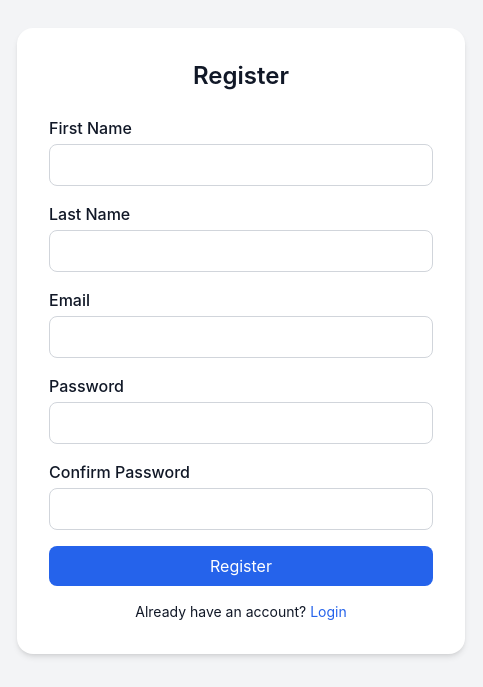
Test: Register Page › shows password mismatch error
This screenshot has width=483, height=687.
Type "Test" into the field with test id "firstName".
click(241, 165); type("Test")  # box [49,144,433,186]
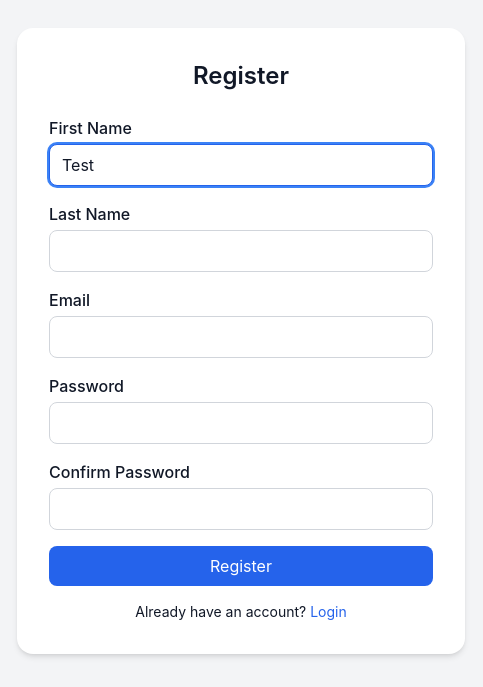
Type "User" into the field with test id "lastName".
click(241, 251); type("User")  # box [49,230,433,272]
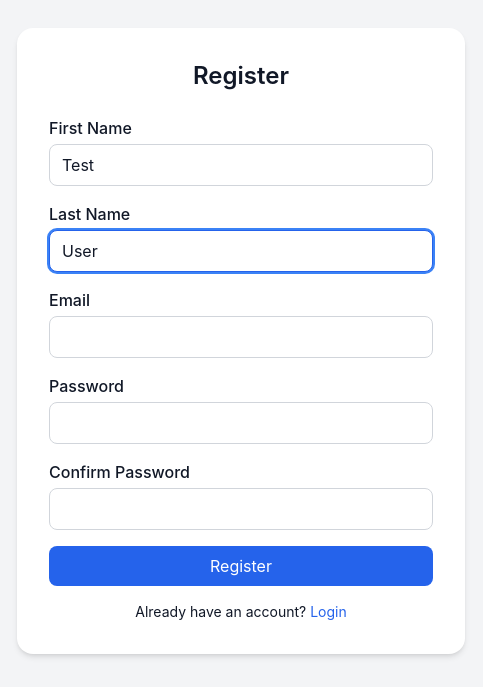
Type "test@example.com" into the field with test id "email".
click(241, 337); type("test@example.com")  # box [49,316,433,358]
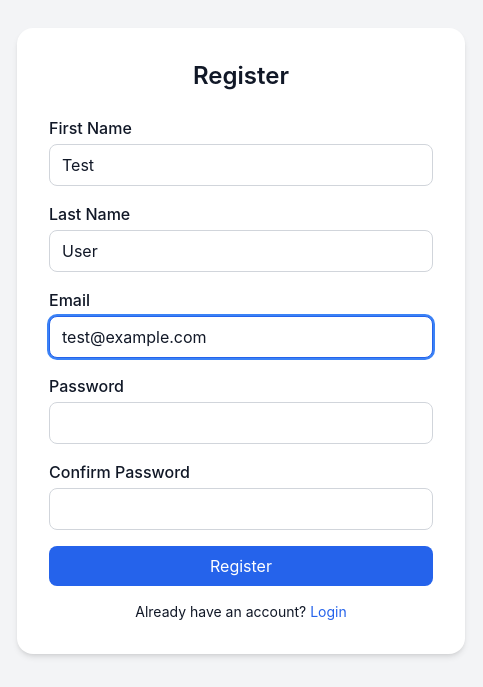
Type "password123" into the password field with test id "password".
click(241, 423); type("password123")  # box [49,402,433,444]
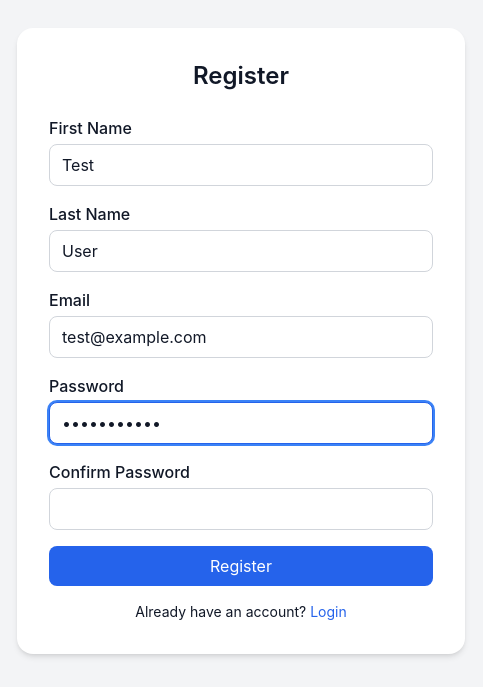
Type "mismatch" into the password field with test id "confirmPassword".
click(241, 509); type("mismatch")  # box [49,488,433,530]
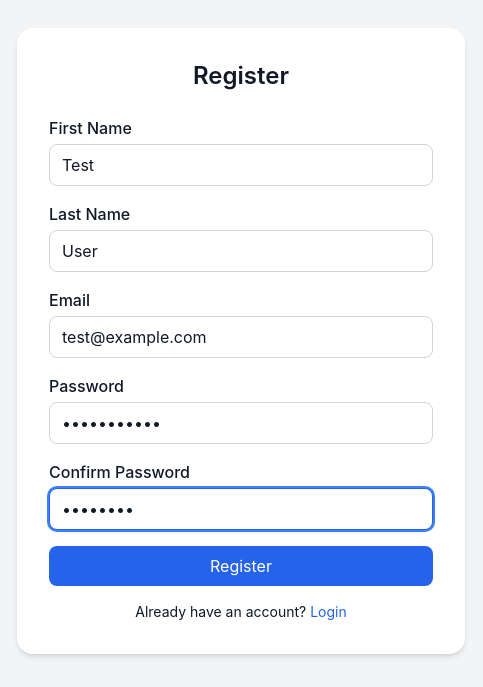
Click the button with test id "submit".
click(241, 566)  # box [49,546,433,586]
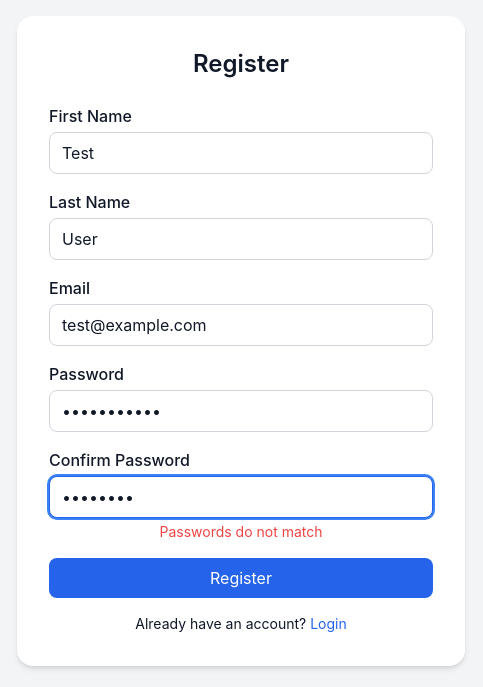
Expected: the text "Passwords do not match" is shown, [160,523,323,540]
